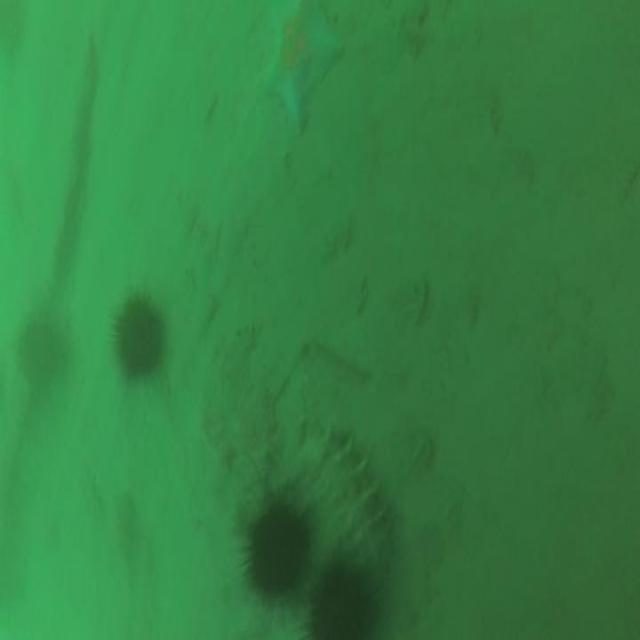echinus: (248, 509, 304, 596), (311, 562, 373, 640), (114, 300, 164, 372)
holothurian: (303, 428, 397, 575)
starfish: (262, 2, 343, 132)
